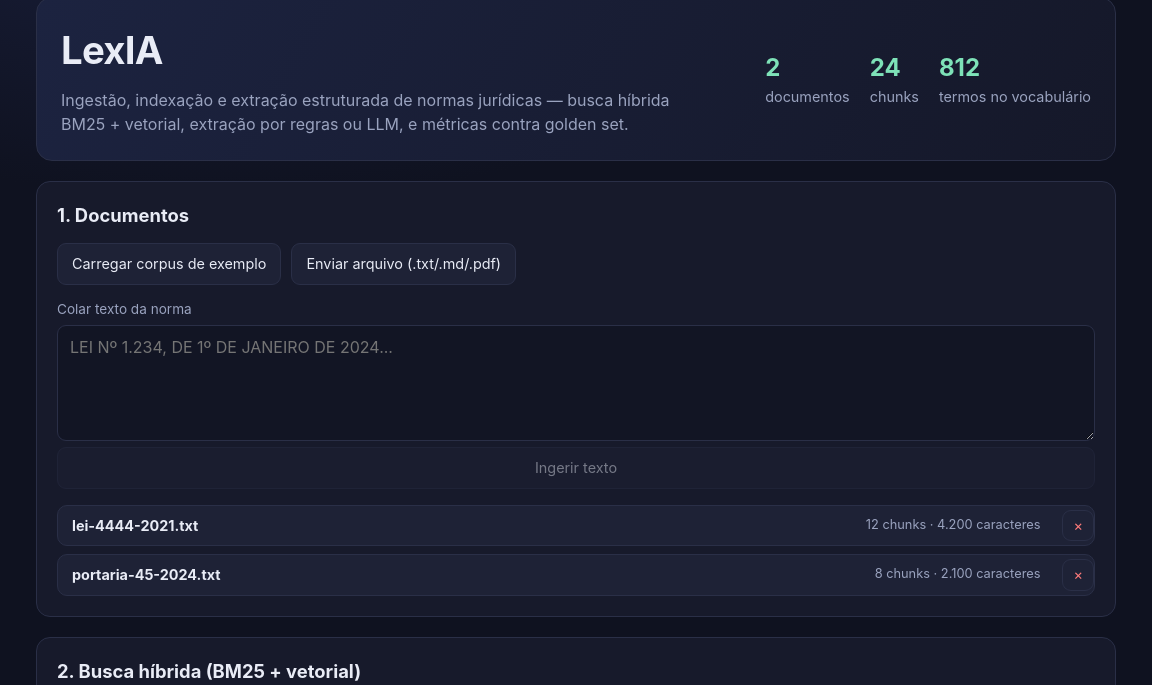
Test case: App › ingere texto colado e seleciona o documento resultante
Check: the button "Ingerir texto" is disabled, box [57,447,1095,489]
Type "LEI Nº 1.234, DE 1º DE JANEIRO DE 2024. Art. 1º Teste." into the text box labelled "Colar texto da norma" at x=576, y=383, box [57,325,1095,441]
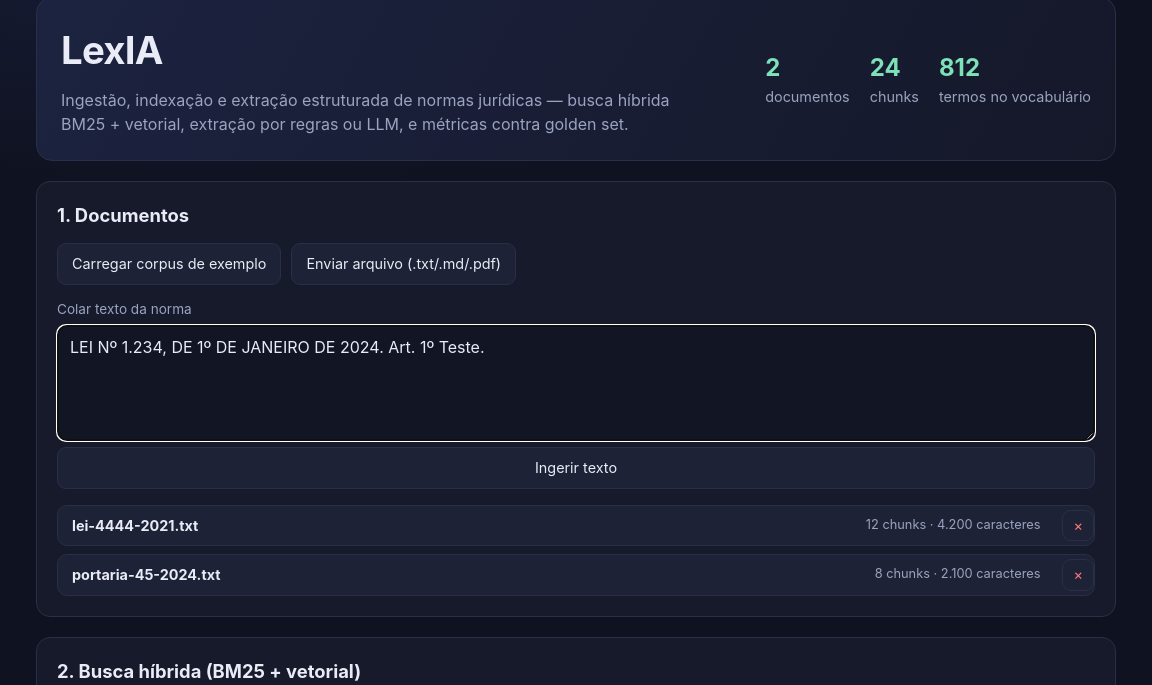
Click the button "Ingerir texto" at x=576, y=468, box [57,447,1095,489]
(page scrolled)
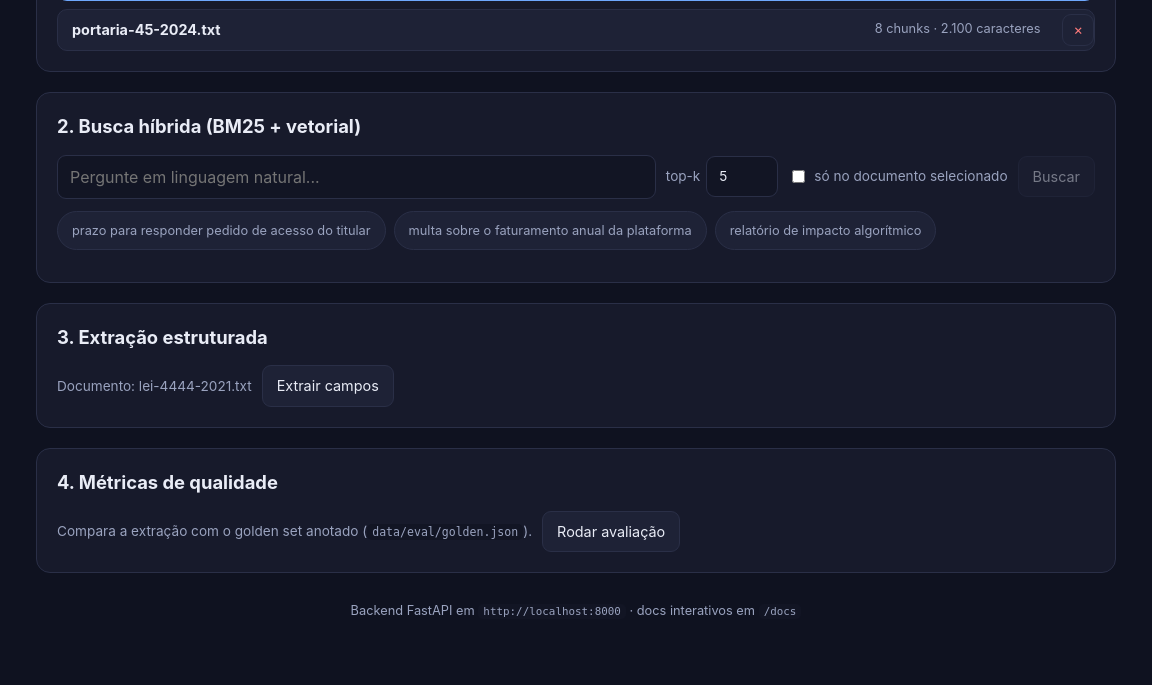
Check: the text "Documento: lei-4444-2021.txt" is shown, box [57,376,252,396]
